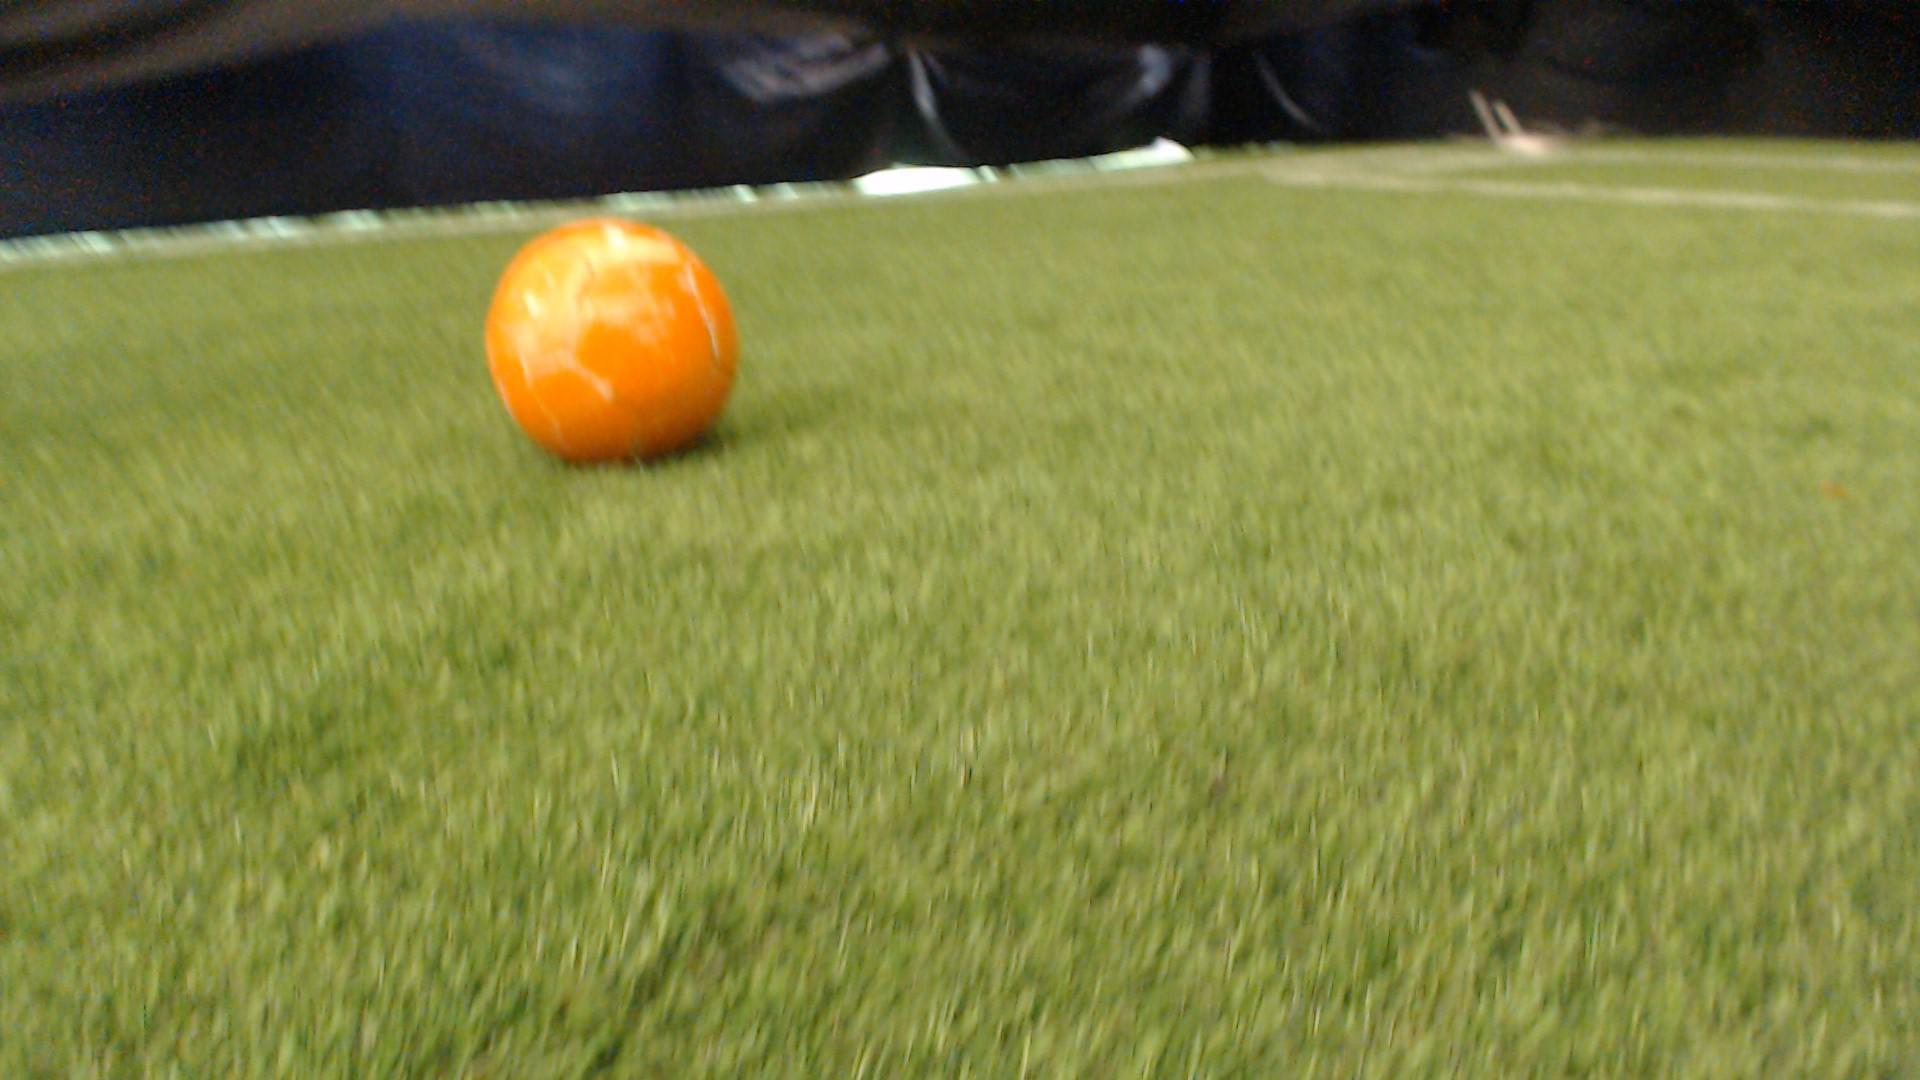bola: (462, 199, 778, 493)
